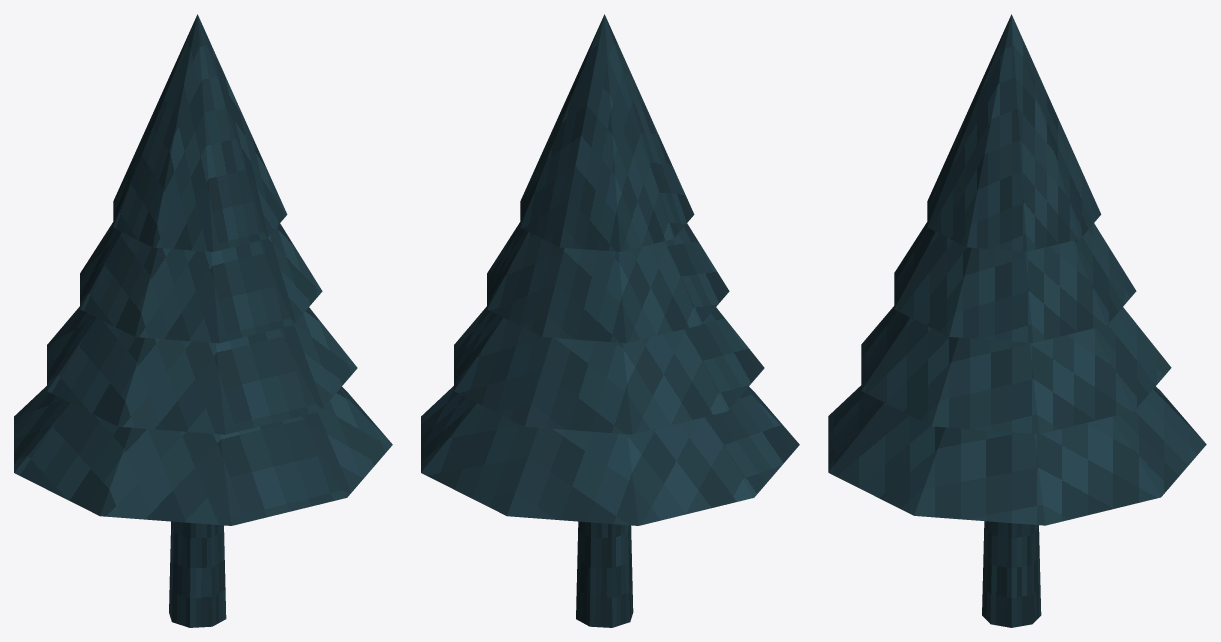
Rendered from pine_05.glb.
3 views of the same model, side by side, from view 1: azimuth 30°, elevation 25°; view 2: azimuth 150°, elevation 25°; view 3: azimuth 270°, elevation 25° (orthographic).
Parts seen in each view (by area): view 1: Needles, Needles.001, Needles.003, Needles.002, Trunk; view 2: Needles, Needles.001, Needles.003, Needles.002, Trunk; view 3: Needles, Needles.001, Needles.003, Needles.002, Trunk.
Part boxes in pixels (x1=…): Needles: x1=14, y1=386, x2=392, y2=525; Needles.001: x1=47, y1=306, x2=357, y2=434; Needles.003: x1=113, y1=14, x2=287, y2=251; Needles.002: x1=80, y1=222, x2=322, y2=343; Trunk: x1=169, y1=521, x2=226, y2=627; Needles: x1=421, y1=386, x2=799, y2=525; Needles.001: x1=454, y1=306, x2=764, y2=434; Needles.003: x1=520, y1=14, x2=694, y2=251; Needles.002: x1=487, y1=222, x2=729, y2=343; Trunk: x1=576, y1=521, x2=633, y2=627; Needles: x1=828, y1=385, x2=1206, y2=525; Needles.001: x1=861, y1=306, x2=1171, y2=434; Needles.003: x1=927, y1=14, x2=1101, y2=251; Needles.002: x1=894, y1=222, x2=1136, y2=342; Trunk: x1=982, y1=521, x2=1041, y2=627.
Bounding box in the file's own units: 2.59 × 4.48 × 2.55.
1 material, 1 textured.
